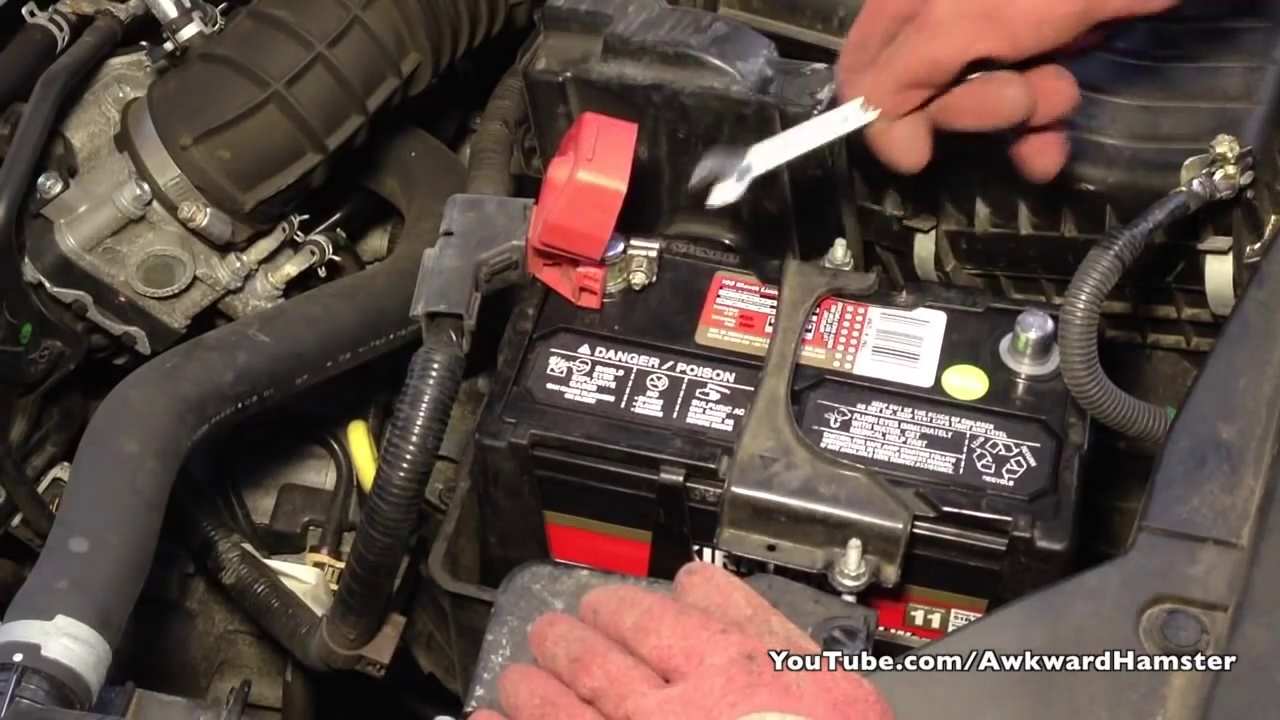battery: (477, 215, 1079, 548)
neg_disconnected: (977, 269, 1078, 411)
pos_connected: (492, 123, 673, 328)
